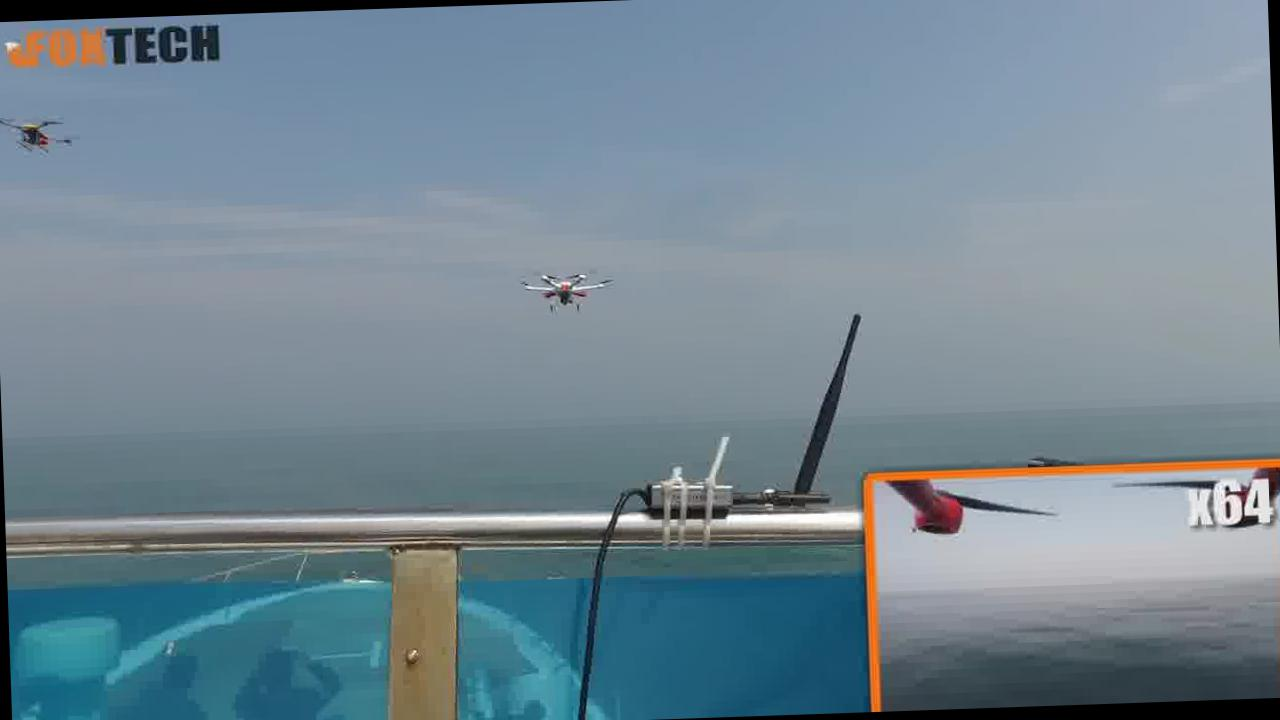drone: (506, 262, 632, 316)
